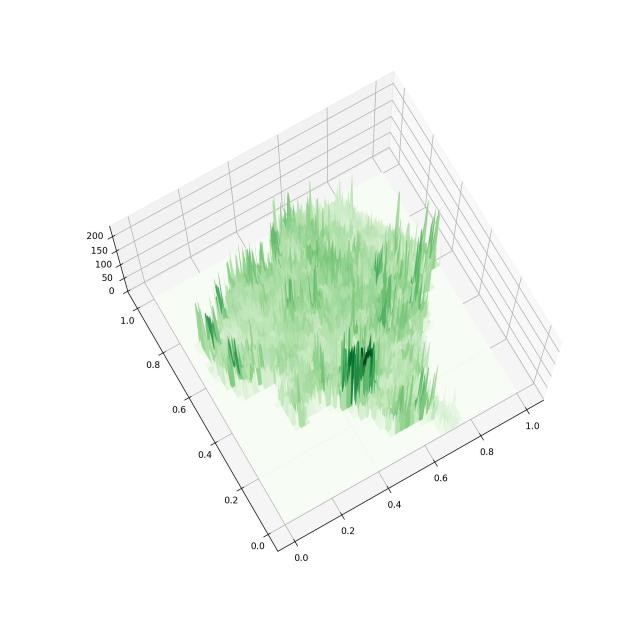fir: (62, 39, 575, 572)
